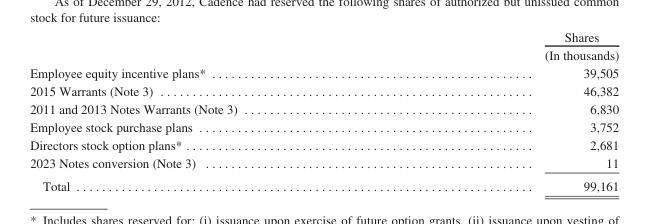table: (29, 28, 618, 193)
table column: (29, 28, 390, 193), (390, 28, 618, 193)
table column header: (29, 28, 618, 63)
table row: (29, 28, 618, 63), (29, 153, 618, 174), (29, 174, 618, 193), (29, 63, 618, 81), (29, 81, 618, 99), (29, 99, 618, 117), (29, 117, 618, 135), (29, 135, 618, 153)
